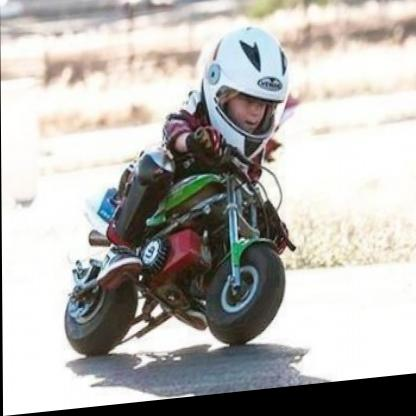With Helmet: (203, 14, 291, 166)
